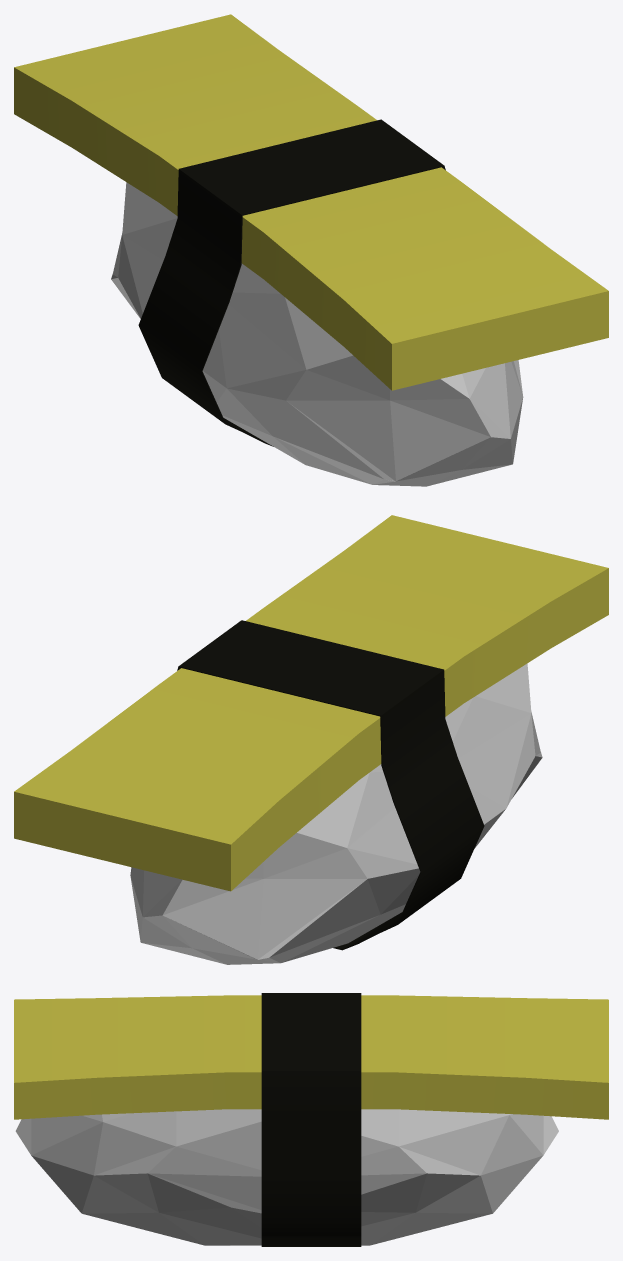
The model's file is egg.obj.
The picture shows the model from 3 angles, top to bottom: view 1: azimuth 30°, elevation 25°; view 2: azimuth 150°, elevation 25°; view 3: azimuth 270°, elevation 25°; orthographic projection. The views are drawn at different scales.
Visible parts, largest first — view 1: Egg_GP Egg, Egg_GP Rice, SeaWeed Egg_GP; view 2: Egg_GP Egg, Egg_GP Rice, SeaWeed Egg_GP; view 3: Egg_GP Egg, Egg_GP Rice, SeaWeed Egg_GP.
Boxes of the visible parts, x1=… form: Egg_GP Egg: x1=14, y1=14, x2=608, y2=390; Egg_GP Rice: x1=111, y1=182, x2=523, y2=486; SeaWeed Egg_GP: x1=138, y1=119, x2=445, y2=446; Egg_GP Egg: x1=14, y1=515, x2=608, y2=891; Egg_GP Rice: x1=130, y1=663, x2=542, y2=964; SeaWeed Egg_GP: x1=177, y1=620, x2=484, y2=950; Egg_GP Egg: x1=14, y1=995, x2=608, y2=1119; Egg_GP Rice: x1=15, y1=1109, x2=558, y2=1245; SeaWeed Egg_GP: x1=261, y1=993, x2=361, y2=1246.
Bounding box in the file's own units: 2.15 × 1.93 × 5.41.
